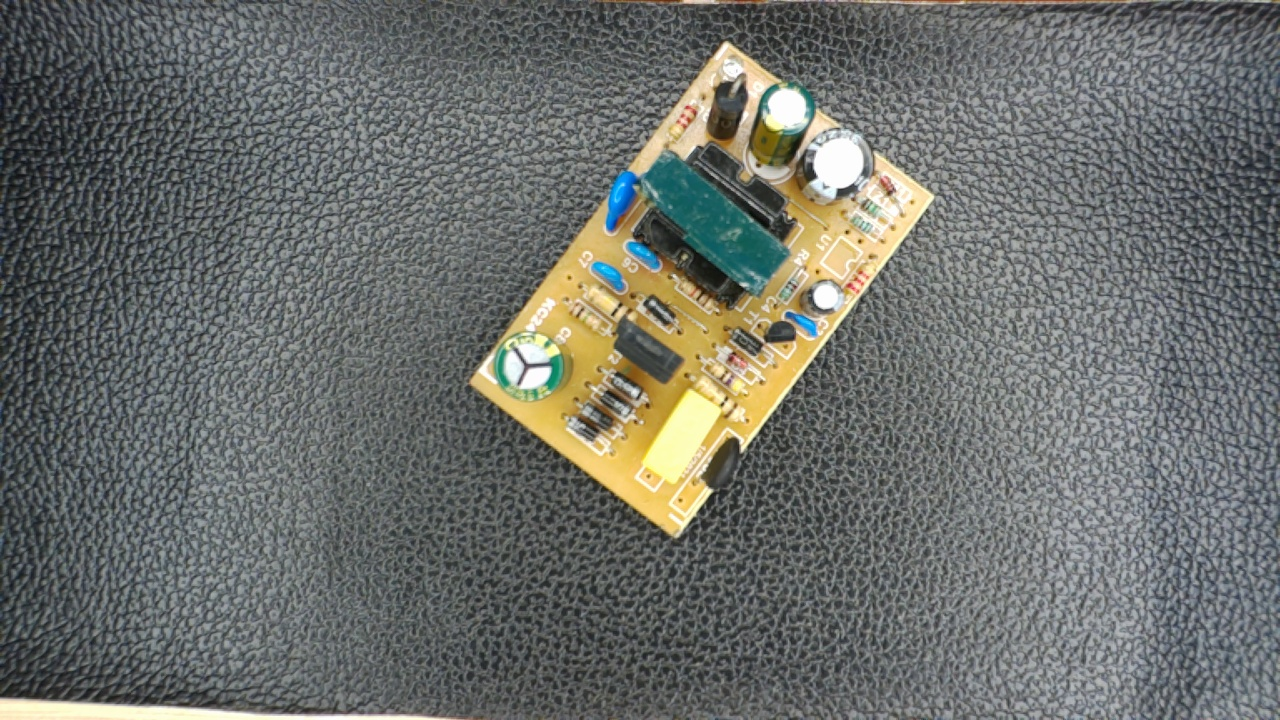fuse: (687, 429, 747, 498)
hv_capacitor: (488, 329, 575, 402)
mov: (597, 164, 650, 234)
